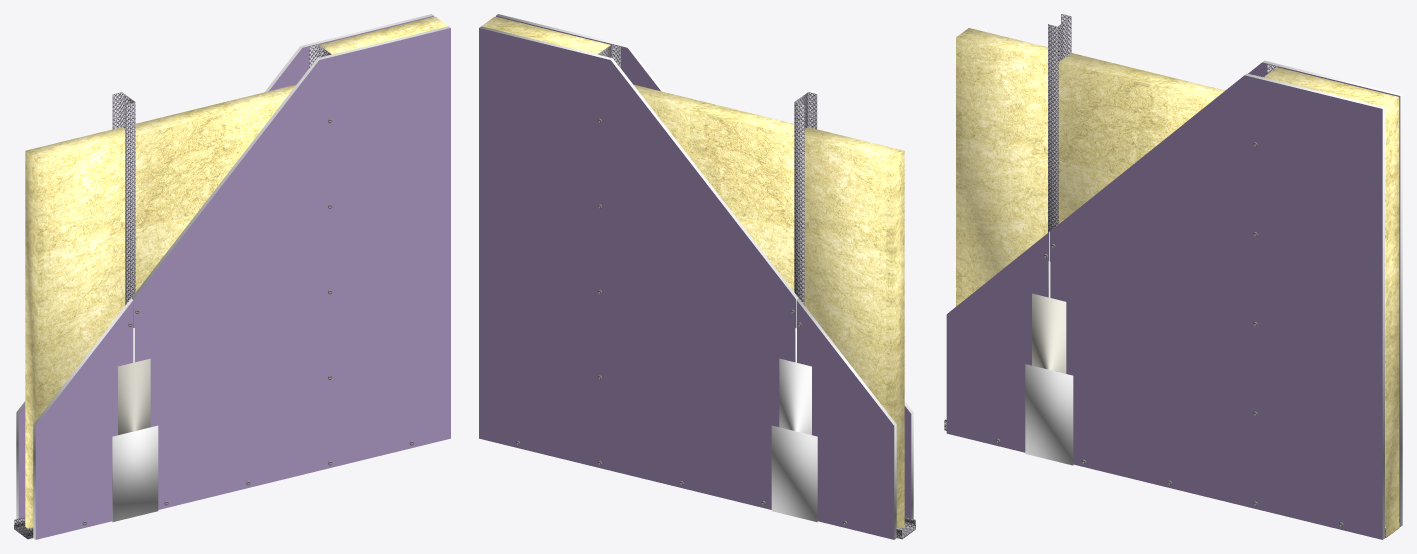
Rendered from partition.gltf.
3 views of the same model, side by side, from view 1: azimuth 30°, elevation 25°; view 2: azimuth 150°, elevation 25°; view 3: azimuth 330°, elevation 25° (orthographic). The views are drawn at different scales.
Visible parts, largest first — view 1: Краска - Ультрамарин Фиолетовый, Изоляция - Стекловолокно, Краска - Белила Титановые, Металл - Перфорированный, Краска - Песок Сиенна; view 2: Краска - Ультрамарин Фиолетовый, Изоляция - Стекловолокно, Краска - Белила Титановые, Металл - Перфорированный; view 3: Краска - Ультрамарин Фиолетовый, Изоляция - Стекловолокно, Краска - Белила Титановые, Металл - Перфорированный, Краска - Песок Сиенна.
Part boxes in pixels (x1,y1,x2,y2): Краска - Ультрамарин Фиолетовый: (18, 15, 450, 539); Изоляция - Стекловолокно: (25, 16, 447, 528); Краска - Белила Титановые: (16, 14, 450, 539); Металл - Перфорированный: (14, 44, 331, 539); Краска - Песок Сиенна: (118, 358, 150, 434); Краска - Ультрамарин Фиолетовый: (479, 15, 911, 539); Изоляция - Стекловолокно: (482, 16, 904, 528); Краска - Белила Титановые: (479, 14, 913, 539); Металл - Перфорированный: (598, 44, 915, 539); Краска - Ультрамарин Фиолетовый: (946, 62, 1400, 539); Изоляция - Стекловолокно: (956, 28, 1399, 536); Краска - Белила Титановые: (1025, 60, 1402, 539); Металл - Перфорированный: (944, 14, 1399, 537); Краска - Песок Сиенна: (1032, 293, 1066, 373).
Size of the model in its own units: 1.29 by 1.2 by 0.113.
Materials: 6 (2 with a texture image).
